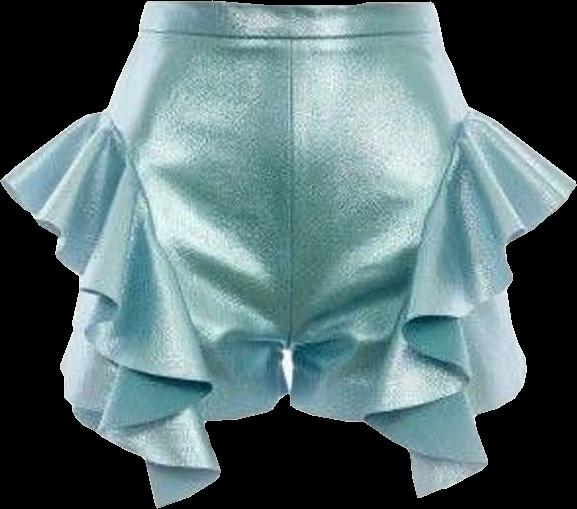Hemline: (3, 178, 225, 508), (364, 181, 576, 500), (206, 390, 290, 426), (289, 399, 367, 425)
Pantleg: (0, 1, 292, 508), (286, 2, 576, 498)
Waistline: (361, 107, 476, 424), (100, 110, 212, 425), (137, 27, 442, 42), (145, 0, 434, 12)
